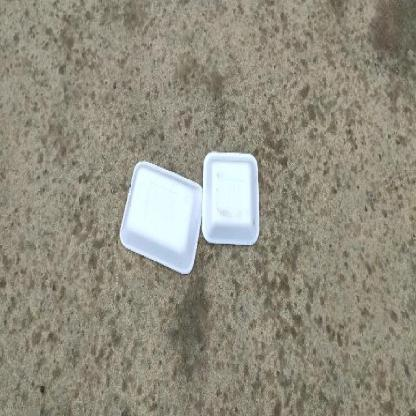Glass Cup: (119, 159, 203, 275), (120, 161, 202, 271), (202, 151, 260, 245), (203, 152, 259, 246)
